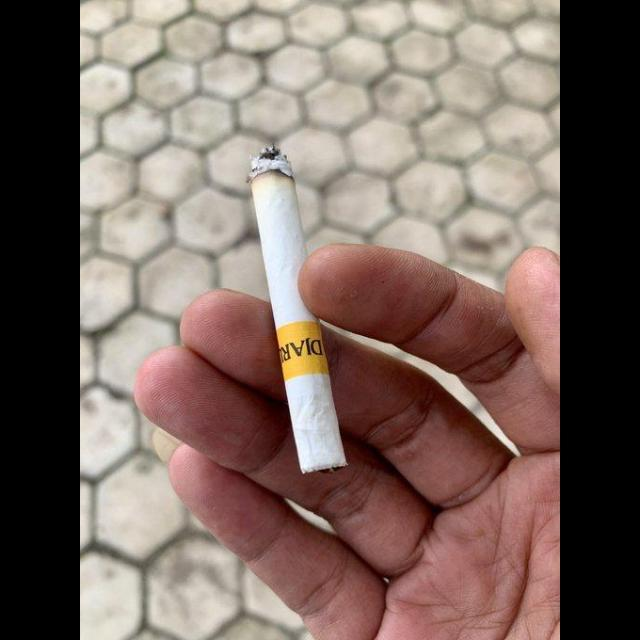rokok: (242, 136, 352, 480)
